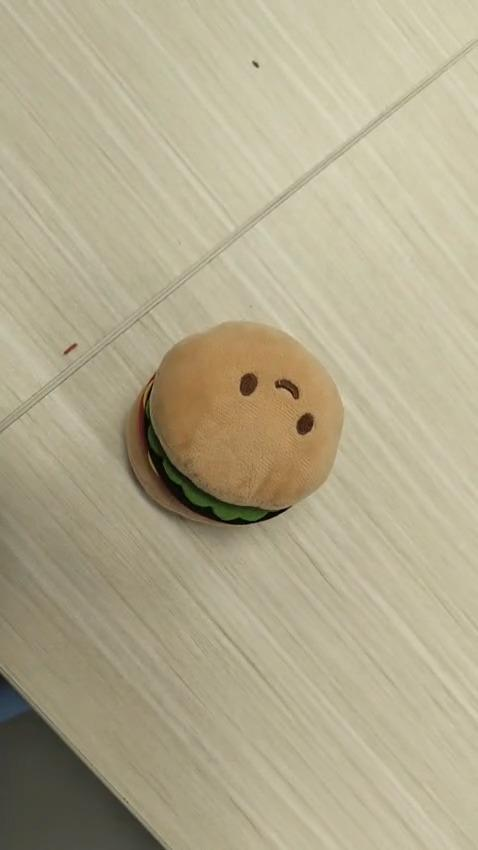hamburger: (125, 319, 344, 528)
